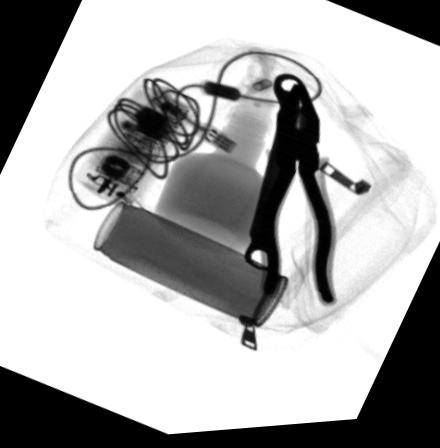Pliers: (258, 86, 339, 308)
Wrench: (240, 74, 306, 276)
